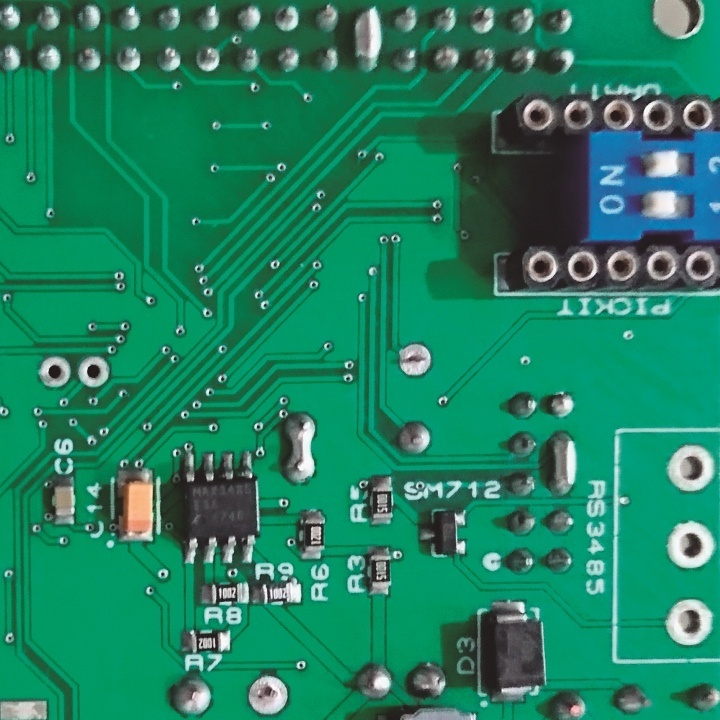F: (663, 516, 719, 575), (662, 594, 716, 652), (662, 440, 718, 495), (242, 672, 295, 718), (394, 340, 436, 380), (36, 350, 73, 395), (76, 349, 112, 392), (112, 40, 147, 78), (193, 39, 227, 77), (272, 1, 304, 38), (468, 1, 499, 38)
P: (279, 408, 321, 487), (542, 420, 580, 503), (350, 2, 385, 78)
